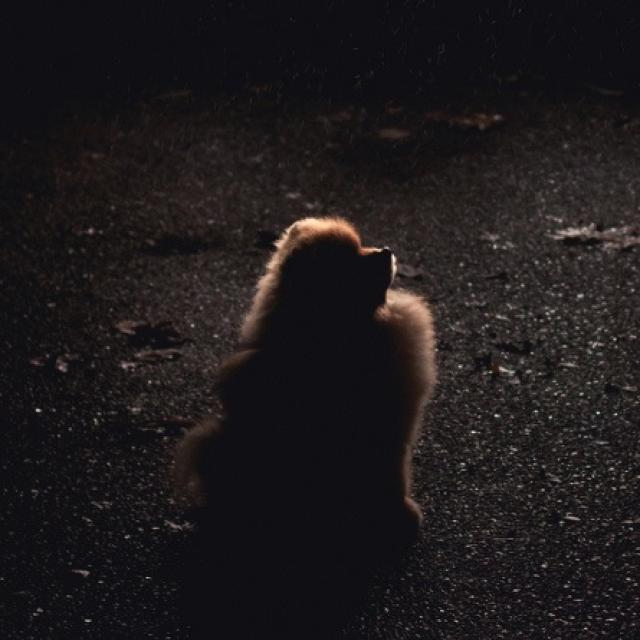Dog: (168, 186, 463, 588)
